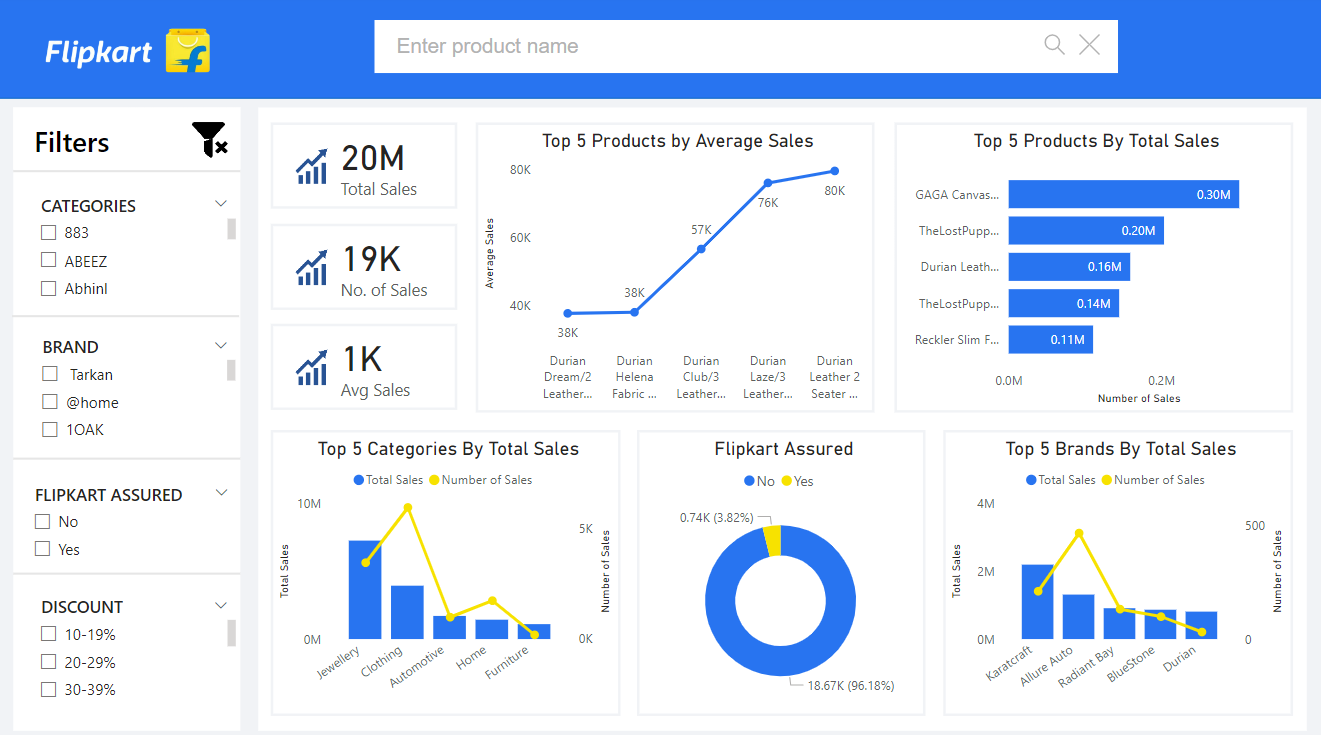

The page's visual inventory and layout, read from the dashboard file:
{"tool":"powerbi","page":{"name":"Dashboard","canvas":[1280,720],"ordinal":0},"visuals":[{"type":"shape","box":[0,0,1280,100.1],"z":0},{"type":"textSearchSlicerF85E2E78BE4A4D7D9F99ED75B5D71C85","fields":{"fields":["fact_products.Product_Name"]},"box":[364.8,24.2,717.5,51.2],"z":1000},{"type":"shape","box":[16.2,109,219.4,601.8],"z":2000},{"type":"shape","box":[16.2,158.9,219.4,21.5],"z":3000},{"type":"shape","box":[16.2,109,219.4,59.2],"z":4000},{"type":"slicer","fields":{"Values":["dim_category.Product_Category"]},"box":[14.8,187.1,220.8,118.5],"z":5000},{"type":"slicer","fields":{"Values":["dim_brand.Brand"]},"box":[16.2,323.1,219.4,118.5],"z":6000},{"type":"slicer","fields":{"Values":["fact_products.Advantage_Product"]},"box":[8.1,465.8,227.5,118.5],"z":7000},{"type":"slicer","fields":{"Values":["fact_products.Discount"]},"box":[14.8,574.8,220.8,118.5],"z":8000},{"type":"shape","box":[251.7,109,1012.4,601.8],"z":9000},{"type":"cardVisual","fields":{"Data":["Key Measures.Total Sales"]},"box":[263.9,122.5,180.4,83.5],"z":10000},{"type":"lineChart","title":"Top 5 Products by Average Sales","fields":{"Category":["fact_products.Product_Name"],"Y":["Key Measures.Average Sales"]},"box":[461.8,122.5,385,280],"z":11000},{"type":"donutChart","title":"Flipkart Assured","fields":{"Category":["fact_products.Advantage_Product"],"Y":["CountNonNull(fact_products.Advantage_Product)"]},"box":[617.9,420,278.7,276],"z":12000},{"type":"clusteredBarChart","title":"Top 5 Products By Total Sales","fields":{"Category":["fact_products.Product_Name"],"Y":["Key Measures.Total Sales"]},"box":[865.6,122.5,385,280],"z":13000},{"type":"lineStackedColumnComboChart","title":"Top 5 Categories By Total Sales","fields":{"Category":["dim_category.Product_Category"],"Y":["Key Measures.Total Sales"],"Y2":["Key Measures.Total Number of Sales"]},"box":[263.9,420,337.9,276],"z":14000},{"type":"lineStackedColumnComboChart","title":"Top 5 Brands By Total Sales","fields":{"Category":["dim_brand.Brand"],"Y":["Key Measures.Filtered_Total_Sales_Brand"],"Y2":["Key Measures.Total Number of Sales"]},"box":[912.8,420,337.9,276],"z":15000},{"type":"cardVisual","fields":{"Data":["Key Measures.Total Number of Sales"]},"box":[263.9,220.8,180.4,83.5],"z":16000},{"type":"cardVisual","fields":{"Data":["Key Measures.Average Sales"]},"box":[263.9,317.7,180.4,83.5],"z":17000},{"type":"image","box":[0,0,264.2,100.1],"z":18000},{"type":"shape","box":[14.8,298.9,219.4,21.5],"z":19000},{"type":"shape","box":[16.2,436.2,219.4,21.5],"z":20000},{"type":"shape","box":[16.2,547.9,219.4,21.5],"z":21000},{"type":"image","box":[183.1,114.4,44.4,49.8],"z":22000}]}

Visuals, with their boxes in screenshot pixels (x1, y1, x2, y2), scaled from the page's 1280x720 canvas onto the 1321x735 screenshot:
shape: select_region(0, 0, 1320, 102)
textSearchSlicerF85E2E78BE4A4D7D9F99ED75B5D71C85 - fact_products.Product_Name: select_region(376, 25, 1117, 77)
shape: select_region(17, 111, 243, 726)
shape: select_region(17, 162, 243, 184)
shape: select_region(17, 111, 243, 172)
slicer - dim_category.Product_Category: select_region(15, 191, 243, 312)
slicer - dim_brand.Brand: select_region(17, 330, 243, 451)
slicer - fact_products.Advantage_Product: select_region(8, 476, 243, 596)
slicer - fact_products.Discount: select_region(15, 587, 243, 708)
shape: select_region(260, 111, 1305, 726)
cardVisual - Key Measures.Total Sales: select_region(272, 125, 459, 210)
"Top 5 Products by Average Sales" lineChart: select_region(477, 125, 874, 411)
"Flipkart Assured" donutChart: select_region(638, 429, 925, 710)
"Top 5 Products By Total Sales" clusteredBarChart: select_region(893, 125, 1291, 411)
"Top 5 Categories By Total Sales" lineStackedColumnComboChart: select_region(272, 429, 621, 710)
"Top 5 Brands By Total Sales" lineStackedColumnComboChart: select_region(942, 429, 1291, 710)
cardVisual - Key Measures.Total Number of Sales: select_region(272, 225, 459, 311)
cardVisual - Key Measures.Average Sales: select_region(272, 324, 459, 410)
image: select_region(0, 0, 273, 102)
shape: select_region(15, 305, 242, 327)
shape: select_region(17, 445, 243, 467)
shape: select_region(17, 559, 243, 581)
image: select_region(189, 117, 235, 168)
